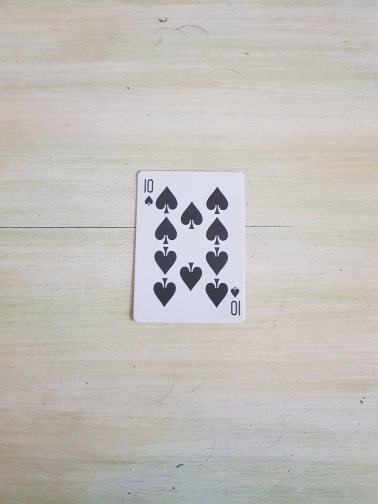ten: (133, 171, 246, 324)
